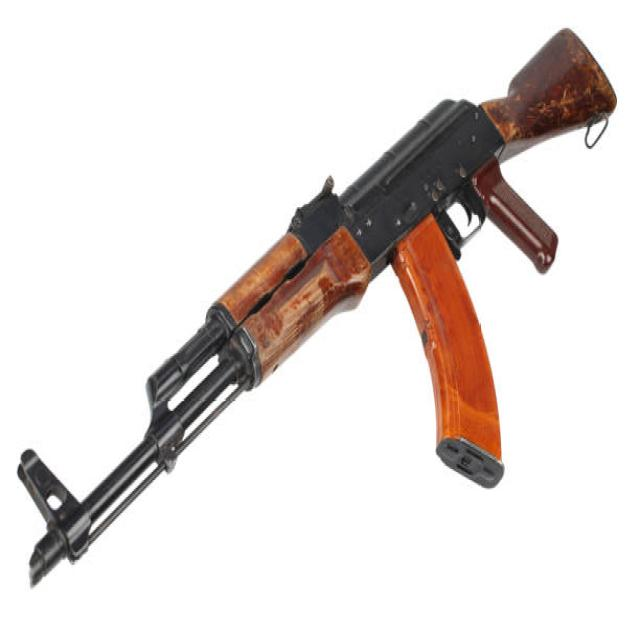rifle: (11, 10, 621, 592)
